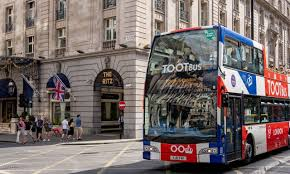bus: (142, 24, 290, 169)
